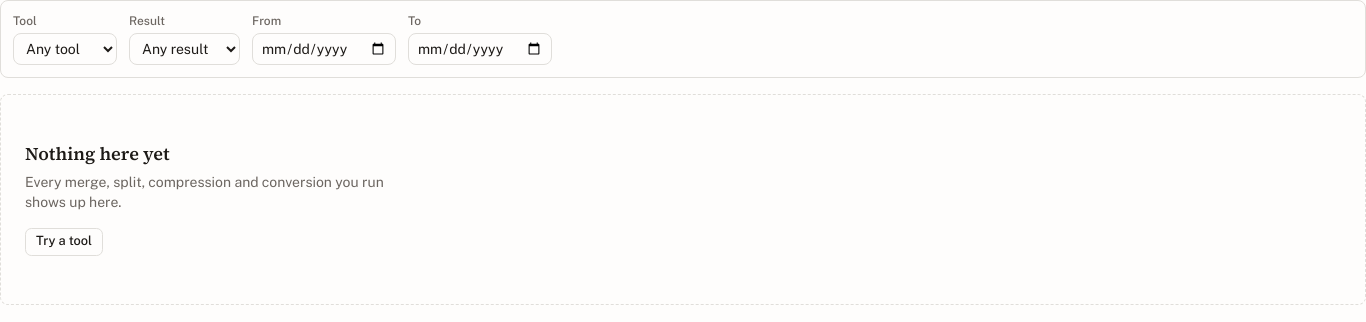
Test case: HistoryList › does not tell someone to try a tool when their filter simply matched nothing
Expected: the heading "Nothing here yet" is shown, [25, 141, 170, 166]
Select "Merge" in the dropdown labelled "Tool" at coordinates (65, 49), box [13, 33, 117, 65]
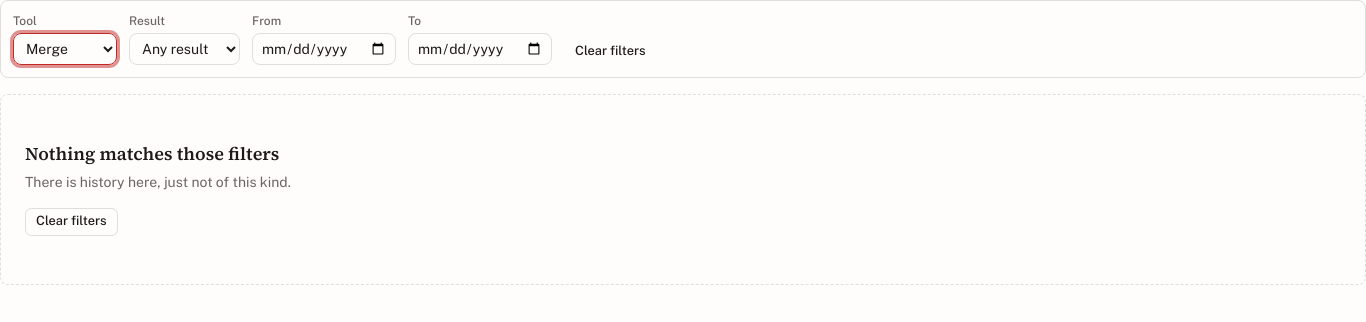
Now the heading "Nothing matches those filters" is shown, box [25, 141, 279, 166]
Now the link "Try a tool" is gone
